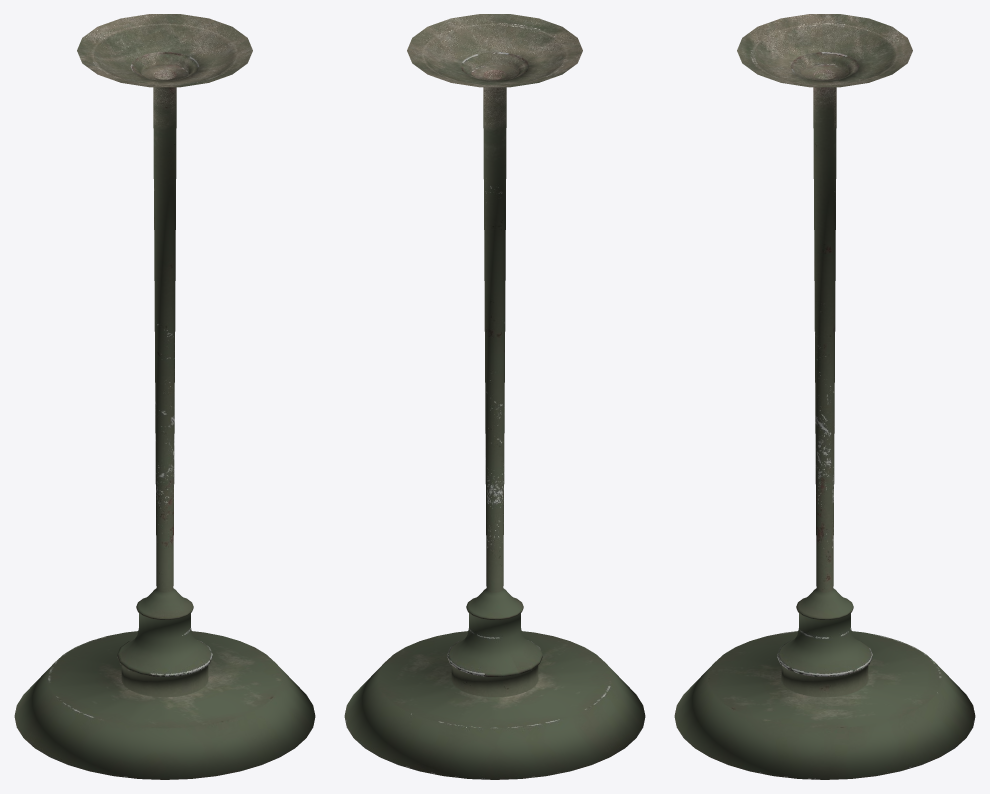
File: ceiling_lamp_lp (1).glb
3 views of the same model, side by side, from view 1: azimuth 30°, elevation 25°; view 2: azimuth 150°, elevation 25°; view 3: azimuth 270°, elevation 25° (orthographic).
Visible parts, largest first — view 1: g; view 2: g; view 3: g.
Part boxes in pixels (<box>): g: <box>14,14,315,779</box>; g: <box>344,14,645,779</box>; g: <box>674,14,975,779</box>.
Size of the model in its own units: 0.7904 by 2 by 0.7904.
Materials: 1 (1 with a texture image).
